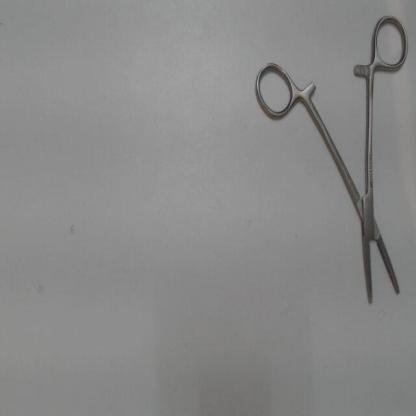Mayo Needle Holder: (250, 11, 412, 318)
